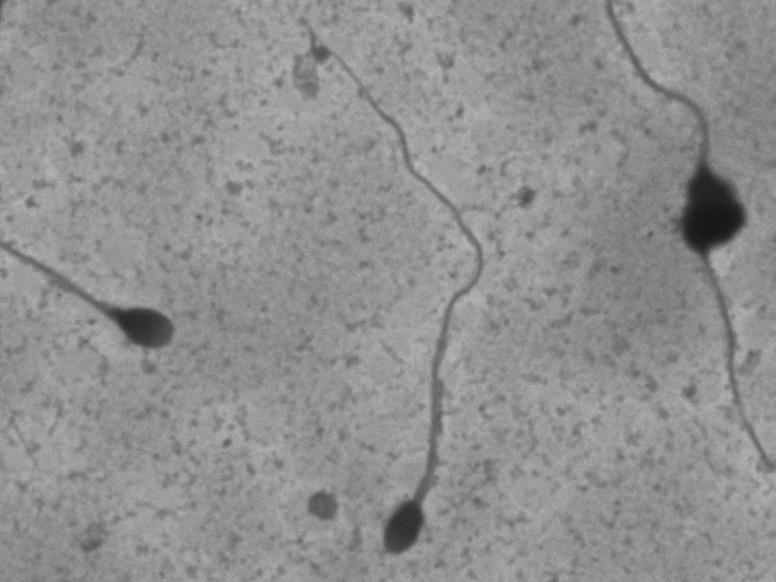Abnormal: (32, 209, 211, 401)
Normal: (299, 30, 498, 567)
